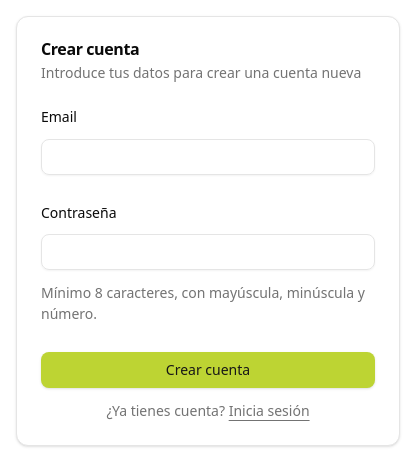
RegisterPage › registra al usuario y pasa al paso de confirmacion
In the field labelled "Email": (208, 156) [41,138,375,174], type "user@example.com"
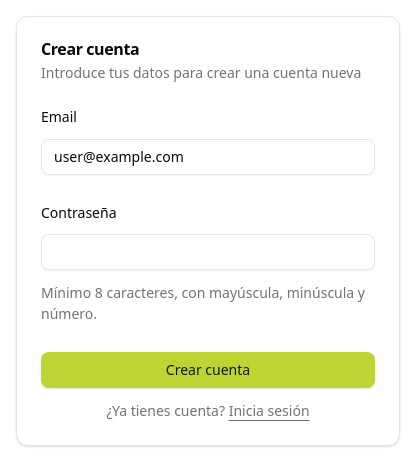
In the password field labelled "Contraseña": (208, 252) [41,234,375,270], type "Password1"
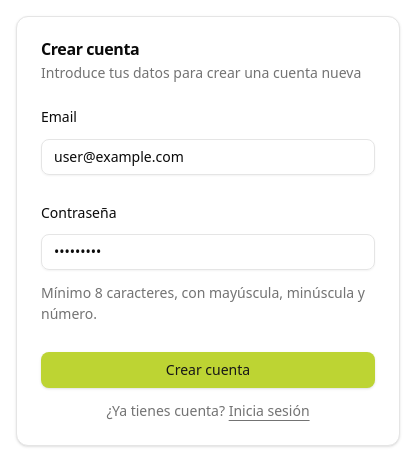
Click the button "Crear cuenta": (208, 370) [41,352,375,388]
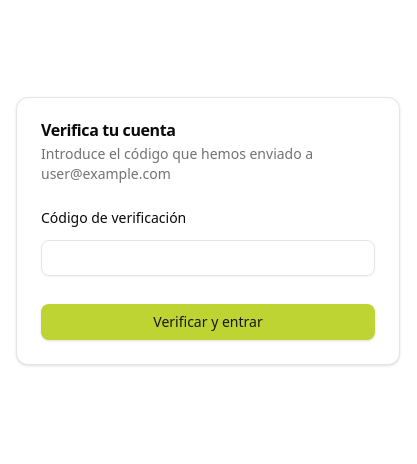
Expected: the text "Verifica tu cuenta" is shown, [41,119,176,141]
